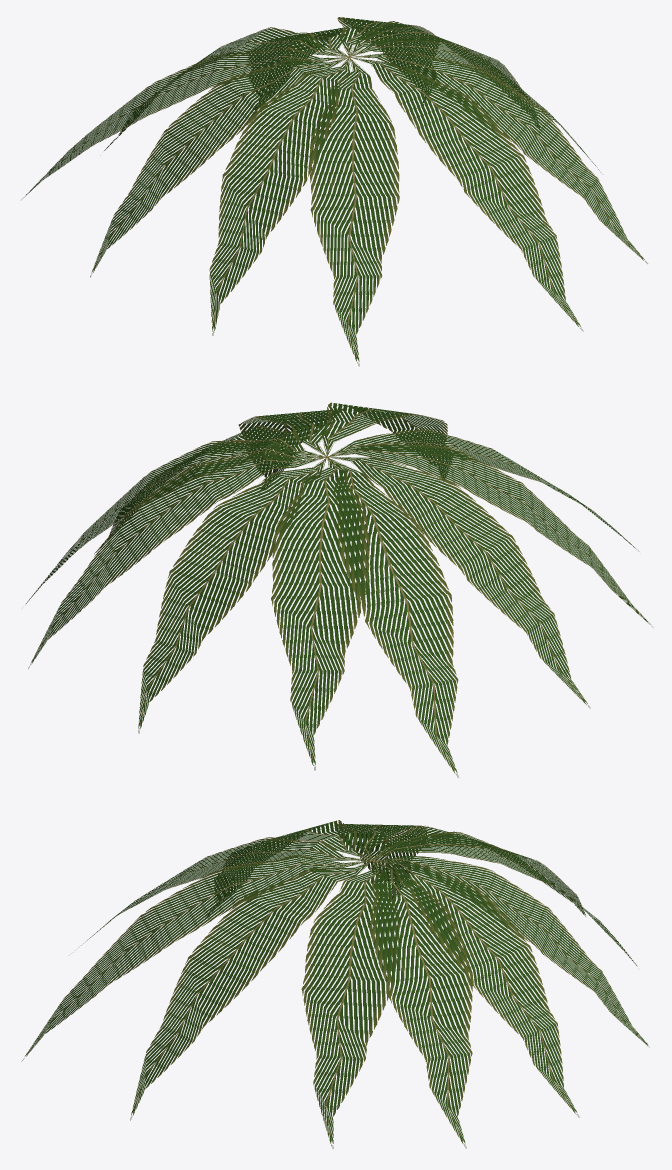
The model's file is SM_Art_Veg_Palm_2_Frond.gltf.
3 renders of one model, top to bottom at view 1: azimuth 30°, elevation 25°; view 2: azimuth 150°, elevation 25°; view 3: azimuth 270°, elevation 25°, orthographic. The views are drawn at different scales.
Parts seen in each view (by area): view 1: SM_Art_Veg_Palm_2_Frond; view 2: SM_Art_Veg_Palm_2_Frond; view 3: SM_Art_Veg_Palm_2_Frond.
Part boxes in pixels (bbox=[...]): SM_Art_Veg_Palm_2_Frond: bbox=[21, 17, 647, 366]; SM_Art_Veg_Palm_2_Frond: bbox=[26, 402, 653, 777]; SM_Art_Veg_Palm_2_Frond: bbox=[21, 820, 649, 1148].
Bounding box in the file's own units: 5.54 × 1.82 × 6.03.
Materials: 1 (1 with a texture image).
